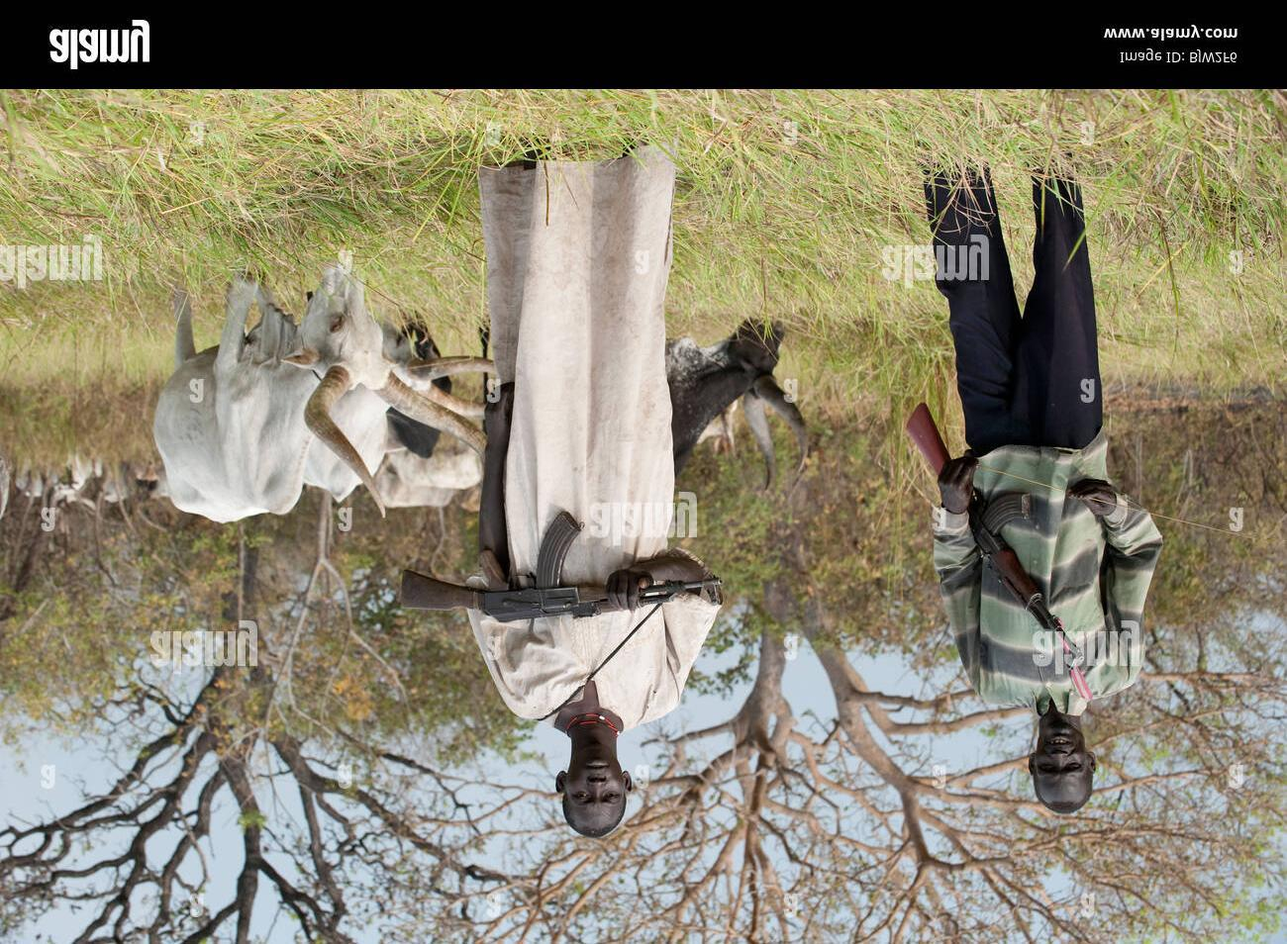larga: (399, 509, 723, 624), (904, 401, 1063, 633)
